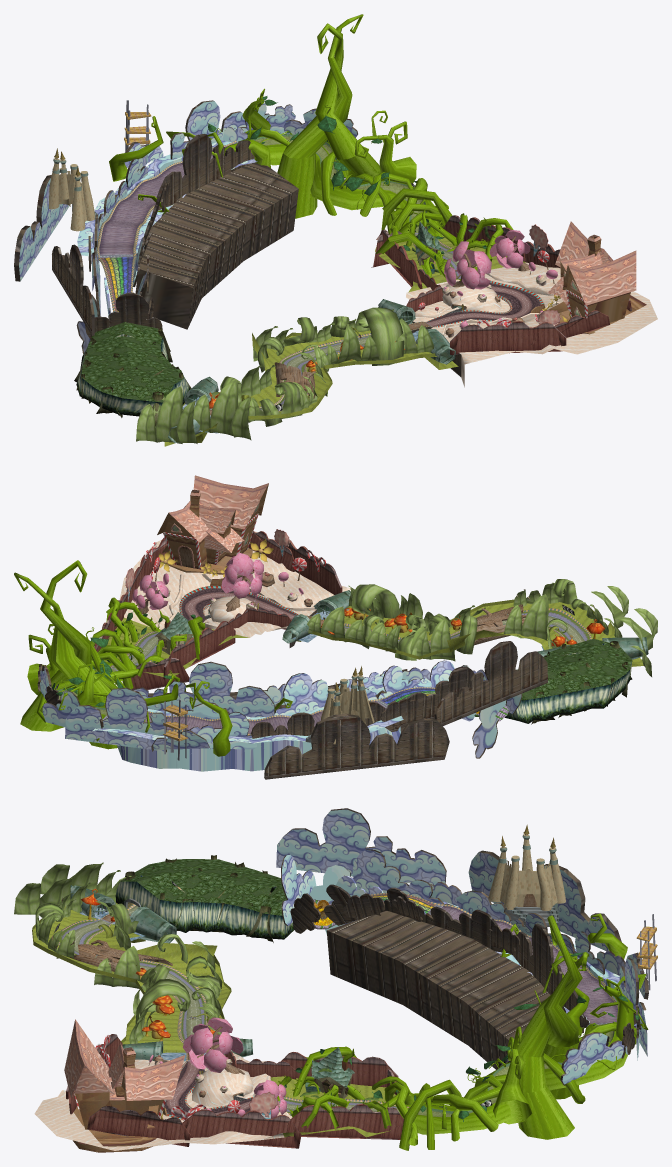
3 renders of one model, top to bottom at view 1: azimuth 30°, elevation 25°; view 2: azimuth 150°, elevation 25°; view 3: azimuth 270°, elevation 25°, orthographic. The views are drawn at different scales.
Parts seen in each view (by area): view 1: Fairy_CTTR-COM-3DGeom_94_Defintion-323631-polySurfaceShape82, Fairy_CTTR-COM-3DGeom_71_Defintion-323775-polySurfaceShape82, Fairy_CTTR-COM-3DGeom_84_Defintion-323813-pla_beanstalk_m1, Fairy_CTTR-COM-3DGeom_131_Defintion-323742-pla_leaf_002_m1, Fairy_CTTR-COM-3DGeom_101_Defintion-323693-bdg_012_candy_flo, Fairy_CTTR-COM-3DGeom_123_Defintion-322981-pla_beanstalk_m1, Fairy_CTTR-COM-3DGeom_143_Defintion-323739-pla_leaf_002_m1, Fairy_CTTR-COM-3DGeom_78_Defintion-323804-pla_canopy01_m1, Fairy_CTTR-COM-3DGeom_113_Defintion-323687-wud_039_candy_bac, Fairy_CTTR-COM-3DGeom_100_Defintion-323651-bdg_011b_m1, Fairy_CTTR-COM-3DGeom_51_Defintion-323133-pla_beanstalk_m1, Fairy_CTTR-COM-3DGeom_93_Defintion-323628-polySurfaceShape82 (+22 smaller); view 2: Fairy_CTTR-COM-3DGeom_94_Defintion-323631-polySurfaceShape82, Fairy_CTTR-COM-3DGeom_70_Defintion-323700-polySurfaceShape82, Fairy_CTTR-COM-3DGeom_143_Defintion-323739-pla_leaf_002_m1, Fairy_CTTR-COM-3DGeom_93_Defintion-323628-polySurfaceShape82, Fairy_CTTR-COM-3DGeom_101_Defintion-323693-bdg_012_candy_flo, Fairy_CTTR-COM-3DGeom_131_Defintion-323742-pla_leaf_002_m1, Fairy_CTTR-COM-3DGeom_123_Defintion-322981-pla_beanstalk_m1, Fairy_CTTR-COM-3DGeom_100_Defintion-323651-bdg_011b_m1, Fairy_CTTR-COM-3DGeom_78_Defintion-323804-pla_canopy01_m1, Fairy_CTTR-COM-3DGeom_113_Defintion-323687-wud_039_candy_bac, Fairy_CTTR-COM-3DGeom_51_Defintion-323133-pla_beanstalk_m1, Fairy_CTTR-COM-3DGeom_57_Defintion-323151-wud_039_candy_back (+26 smaller); view 3: Fairy_CTTR-COM-3DGeom_94_Defintion-323631-polySurfaceShape82, Fairy_CTTR-COM-3DGeom_93_Defintion-323628-polySurfaceShape82, Fairy_CTTR-COM-3DGeom_71_Defintion-323775-polySurfaceShape82, Fairy_CTTR-COM-3DGeom_84_Defintion-323813-pla_beanstalk_m1, Fairy_CTTR-COM-3DGeom_113_Defintion-323687-wud_039_candy_bac, Fairy_CTTR-COM-3DGeom_78_Defintion-323804-pla_canopy01_m1, Fairy_CTTR-COM-3DGeom_123_Defintion-322981-pla_beanstalk_m1, Fairy_CTTR-COM-3DGeom_131_Defintion-323742-pla_leaf_002_m1, Fairy_CTTR-COM-3DGeom_101_Defintion-323693-bdg_012_candy_flo, Fairy_CTTR-COM-3DGeom_100_Defintion-323651-bdg_011b_m1, Fairy_CTTR-COM-3DGeom_143_Defintion-323739-pla_leaf_002_m1, Fairy_CTTR-COM-3DGeom_51_Defintion-323133-pla_beanstalk_m1 (+27 smaller).
Part boxes in pixels (x1,y1,x2,y2): Fairy_CTTR-COM-3DGeom_94_Defintion-323631-polySurfaceShape82: (14, 175, 227, 353); Fairy_CTTR-COM-3DGeom_71_Defintion-323775-polySurfaceShape82: (125, 100, 298, 279); Fairy_CTTR-COM-3DGeom_84_Defintion-323813-pla_beanstalk_m1: (274, 110, 448, 238); Fairy_CTTR-COM-3DGeom_131_Defintion-323742-pla_leaf_002_m1: (136, 364, 318, 443); Fairy_CTTR-COM-3DGeom_101_Defintion-323693-bdg_012_candy_flo: (406, 262, 657, 387); Fairy_CTTR-COM-3DGeom_123_Defintion-322981-pla_beanstalk_m1: (207, 14, 363, 167); Fairy_CTTR-COM-3DGeom_143_Defintion-323739-pla_leaf_002_m1: (253, 307, 433, 396); Fairy_CTTR-COM-3DGeom_78_Defintion-323804-pla_canopy01_m1: (81, 322, 183, 402); Fairy_CTTR-COM-3DGeom_113_Defintion-323687-wud_039_candy_bac: (406, 241, 631, 354); Fairy_CTTR-COM-3DGeom_100_Defintion-323651-bdg_011b_m1: (547, 221, 636, 316); Fairy_CTTR-COM-3DGeom_51_Defintion-323133-pla_beanstalk_m1: (375, 188, 513, 279); Fairy_CTTR-COM-3DGeom_93_Defintion-323628-polySurfaceShape82: (19, 178, 162, 352); Fairy_CTTR-COM-3DGeom_94_Defintion-323631-polySurfaceShape82: (251, 641, 547, 779); Fairy_CTTR-COM-3DGeom_70_Defintion-323700-polySurfaceShape82: (65, 662, 284, 771); Fairy_CTTR-COM-3DGeom_143_Defintion-323739-pla_leaf_002_m1: (307, 584, 485, 661); Fairy_CTTR-COM-3DGeom_93_Defintion-323628-polySurfaceShape82: (264, 660, 521, 757); Fairy_CTTR-COM-3DGeom_101_Defintion-323693-bdg_012_candy_flo: (119, 531, 354, 637); Fairy_CTTR-COM-3DGeom_131_Defintion-323742-pla_leaf_002_m1: (503, 579, 657, 676); Fairy_CTTR-COM-3DGeom_123_Defintion-322981-pla_beanstalk_m1: (14, 560, 179, 741); Fairy_CTTR-COM-3DGeom_100_Defintion-323651-bdg_011b_m1: (169, 475, 268, 568); Fairy_CTTR-COM-3DGeom_78_Defintion-323804-pla_canopy01_m1: (516, 639, 632, 700); Fairy_CTTR-COM-3DGeom_113_Defintion-323687-wud_039_candy_bac: (120, 531, 342, 629); Fairy_CTTR-COM-3DGeom_51_Defintion-323133-pla_beanstalk_m1: (90, 597, 205, 689); Fairy_CTTR-COM-3DGeom_57_Defintion-323151-wud_039_candy_back: (94, 600, 235, 689); Fairy_CTTR-COM-3DGeom_94_Defintion-323631-polySurfaceShape82: (278, 808, 621, 1024); Fairy_CTTR-COM-3DGeom_93_Defintion-323628-polySurfaceShape82: (276, 809, 615, 954); Fairy_CTTR-COM-3DGeom_71_Defintion-323775-polySurfaceShape82: (432, 923, 648, 1069); Fairy_CTTR-COM-3DGeom_84_Defintion-323813-pla_beanstalk_m1: (399, 1026, 617, 1141); Fairy_CTTR-COM-3DGeom_113_Defintion-323687-wud_039_candy_bac: (66, 1034, 301, 1148); Fairy_CTTR-COM-3DGeom_78_Defintion-323804-pla_canopy01_m1: (121, 859, 286, 915); Fairy_CTTR-COM-3DGeom_123_Defintion-322981-pla_beanstalk_m1: (517, 915, 648, 1071); Fairy_CTTR-COM-3DGeom_131_Defintion-323742-pla_leaf_002_m1: (14, 862, 138, 958); Fairy_CTTR-COM-3DGeom_101_Defintion-323693-bdg_012_candy_flo: (34, 1053, 292, 1150); Fairy_CTTR-COM-3DGeom_100_Defintion-323651-bdg_011b_m1: (64, 1019, 184, 1100); Fairy_CTTR-COM-3DGeom_143_Defintion-323739-pla_leaf_002_m1: (94, 934, 222, 1043); Fairy_CTTR-COM-3DGeom_51_Defintion-323133-pla_beanstalk_m1: (278, 1046, 461, 1150).
Bounding box in the file's own units: 105142 × 36745 × 103575.
Materials: 62 (62 with a texture image).
